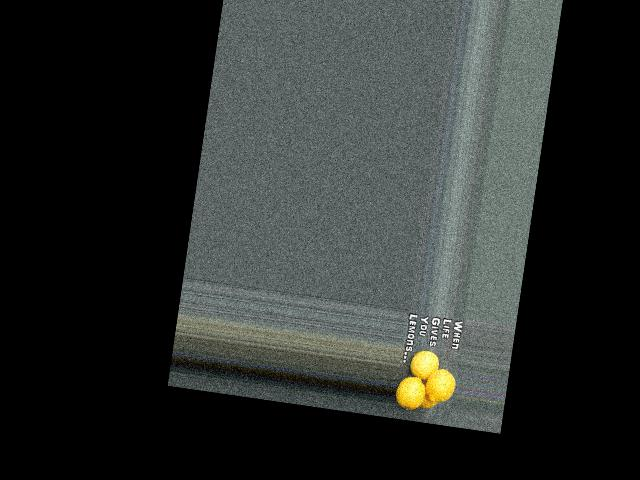lemon: (395, 372, 427, 411)
